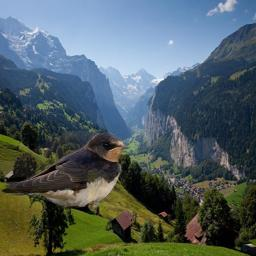Swallow: (0, 131, 129, 213)
